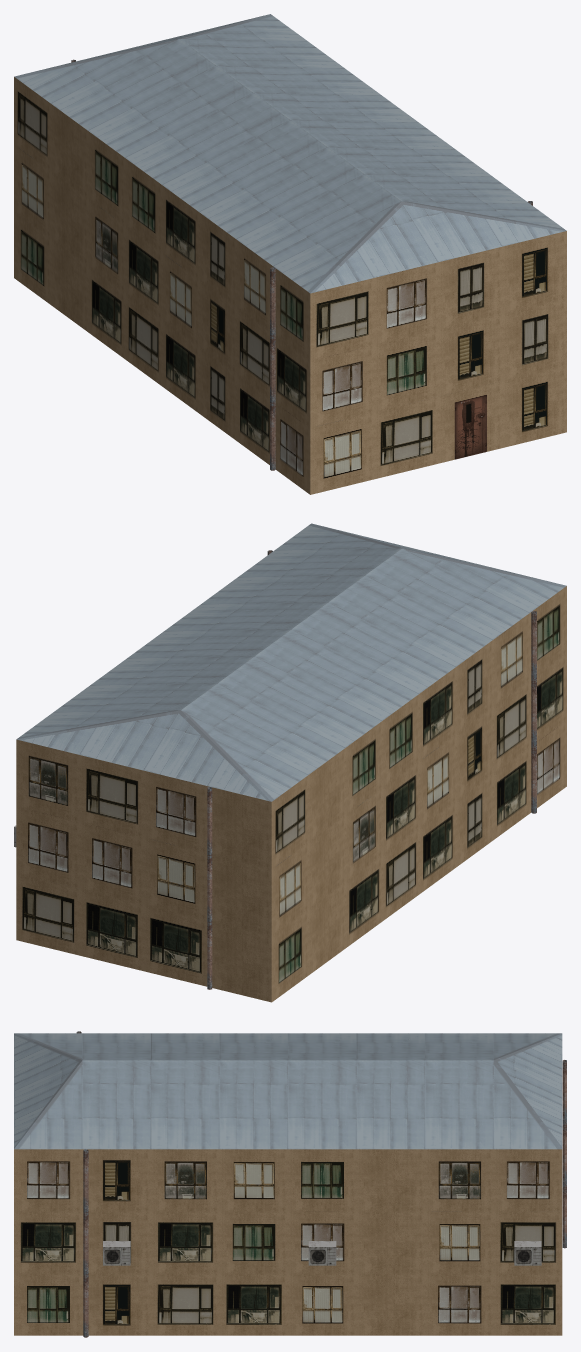
File: Alex_OrangeTerrace_Model.fbx
The picture shows the model from 3 angles, top to bottom: view 1: azimuth 30°, elevation 25°; view 2: azimuth 150°, elevation 25°; view 3: azimuth 270°, elevation 25°; orthographic projection. The views are drawn at different scales.
Parts seen in each view (by area): view 1: Alex_OrangeTerrace_Part01, Alex_OrangeTerrace_Part02, Alex_OrangeTerrace_Part00; view 2: Alex_OrangeTerrace_Part01, Alex_OrangeTerrace_Part02, Alex_OrangeTerrace_Part00; view 3: Alex_OrangeTerrace_Part01, Alex_OrangeTerrace_Part02, Alex_OrangeTerrace_Part00.
Part boxes in pixels (x1=…): Alex_OrangeTerrace_Part01: x1=14, y1=77, x2=566, y2=494; Alex_OrangeTerrace_Part02: x1=14, y1=14, x2=566, y2=293; Alex_OrangeTerrace_Part00: x1=71, y1=59, x2=532, y2=470; Alex_OrangeTerrace_Part01: x1=16, y1=586, x2=566, y2=1002; Alex_OrangeTerrace_Part02: x1=16, y1=523, x2=566, y2=801; Alex_OrangeTerrace_Part00: x1=14, y1=550, x2=536, y2=989; Alex_OrangeTerrace_Part01: x1=14, y1=1149, x2=562, y2=1335; Alex_OrangeTerrace_Part02: x1=14, y1=1033, x2=562, y2=1149; Alex_OrangeTerrace_Part00: x1=76, y1=1031, x2=566, y2=1337.
Size of the model in its own units: 11.97 by 9.8 by 22.59.
